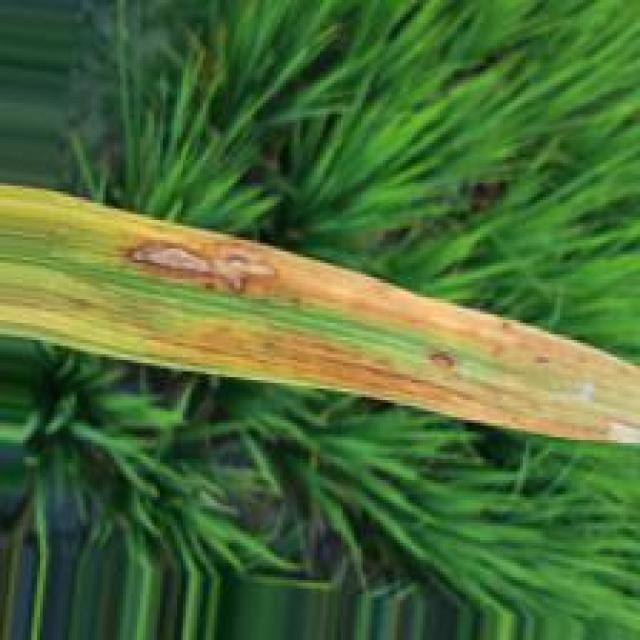Rice Tungro: (155, 322, 585, 440), (116, 238, 290, 299), (424, 351, 460, 374)
